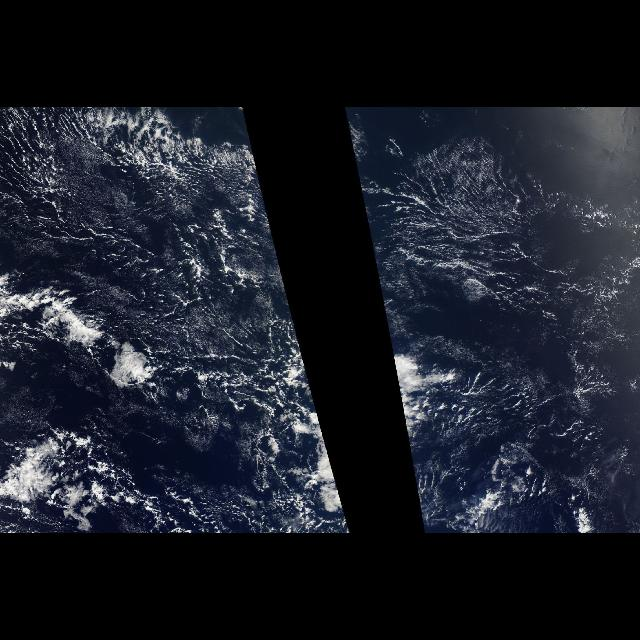Fish: (1, 279, 165, 391)
Gravel: (154, 315, 298, 533)
Sugar: (348, 110, 640, 447), (0, 107, 292, 313)
